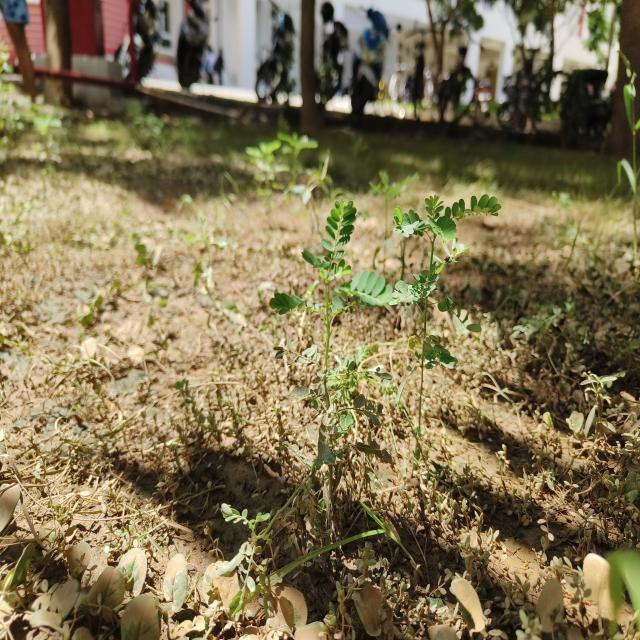weed: (272, 191, 503, 468)
